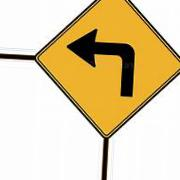left: (35, 1, 180, 138)
